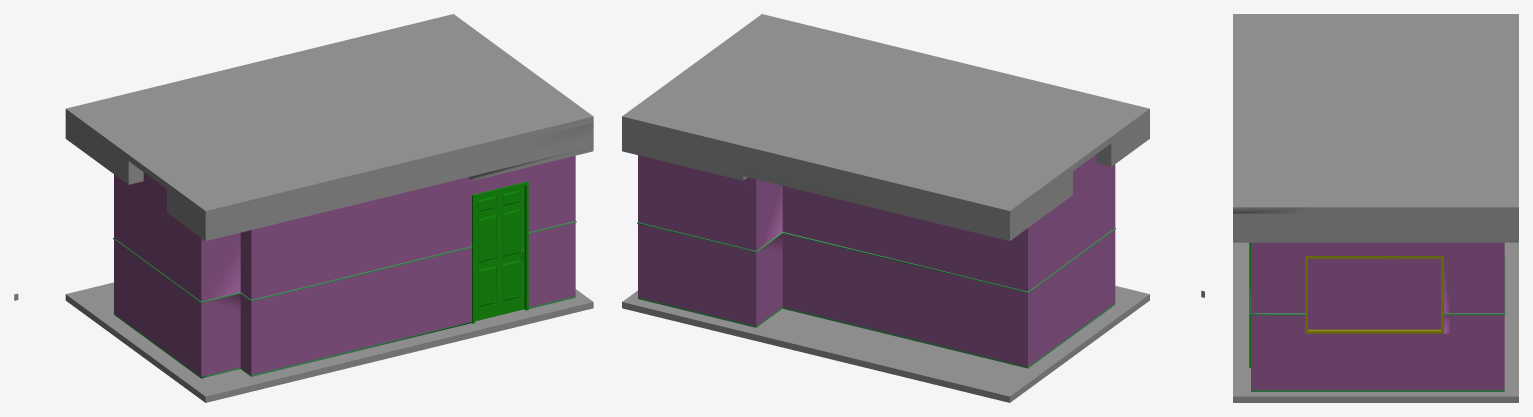
The model's file is FloorPlan9_physics.fbx.
3 renders of one model, left to right at view 1: azimuth 30°, elevation 25°; view 2: azimuth 150°, elevation 25°; view 3: azimuth 270°, elevation 25°, orthographic. The views are drawn at different scales.
Visible parts, largest first — view 1: Ceiling, StandardWallSize, Floor, StandardDoor1, StandardDoorFrame1; view 2: Ceiling, StandardWallSize, Floor; view 3: Ceiling, StandardWallSize, Window, Floor.
Boxes of the visible parts, <box> form: Ceiling: <box>65,14,593,240</box>; StandardWallSize: <box>113,155,576,378</box>; Floor: <box>65,282,593,402</box>; StandardDoor1: <box>475,185,524,320</box>; StandardDoorFrame1: <box>472,181,528,323</box>; Ceiling: <box>622,14,1149,240</box>; StandardWallSize: <box>637,154,1115,368</box>; Floor: <box>622,286,1149,402</box>; Ceiling: <box>1233,14,1518,242</box>; StandardWallSize: <box>1250,242,1505,391</box>; Window: <box>1305,256,1443,333</box>; Floor: <box>1233,239,1518,402</box>.
Bounding box in the file's own units: 843 × 303 × 400.
